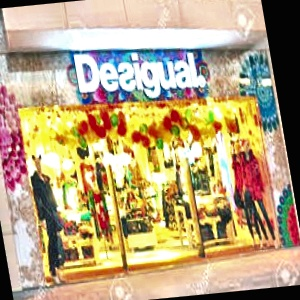desigual: (148, 10, 253, 71)
